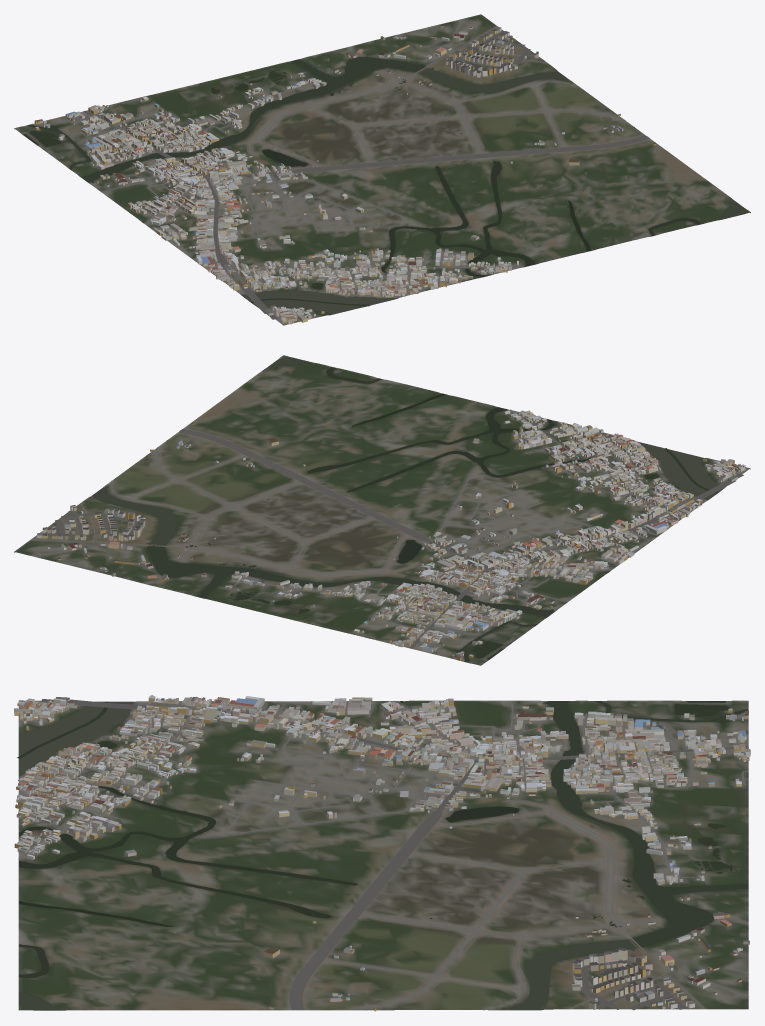
3 views of the same model, one above another, from view 1: azimuth 30°, elevation 25°; view 2: azimuth 150°, elevation 25°; view 3: azimuth 270°, elevation 25° (orthographic). The views are drawn at different scales.
Visible parts, largest first — view 1: ground, buildings, water, roads; view 2: ground, buildings, water, roads; view 3: ground, buildings, water, roads.
Part boxes in pixels (left/top/right/bottom): ground: left=14, top=14, right=750, bottom=325; buildings: left=34, top=25, right=656, bottom=324; water: left=23, top=57, right=743, bottom=314; roads: left=32, top=19, right=649, bottom=325; ground: left=14, top=355, right=750, bottom=665; buildings: left=36, top=410, right=745, bottom=660; water: left=92, top=357, right=723, bottom=662; roads: left=30, top=409, right=750, bottom=661; ground: left=18, top=700, right=748, bottom=1010; buildings: left=14, top=695, right=750, bottom=1011; water: left=17, top=701, right=748, bottom=1009; roads: left=18, top=699, right=748, bottom=1010.
Bounding box in the file's own units: 1413 × 26.09 × 1414.
